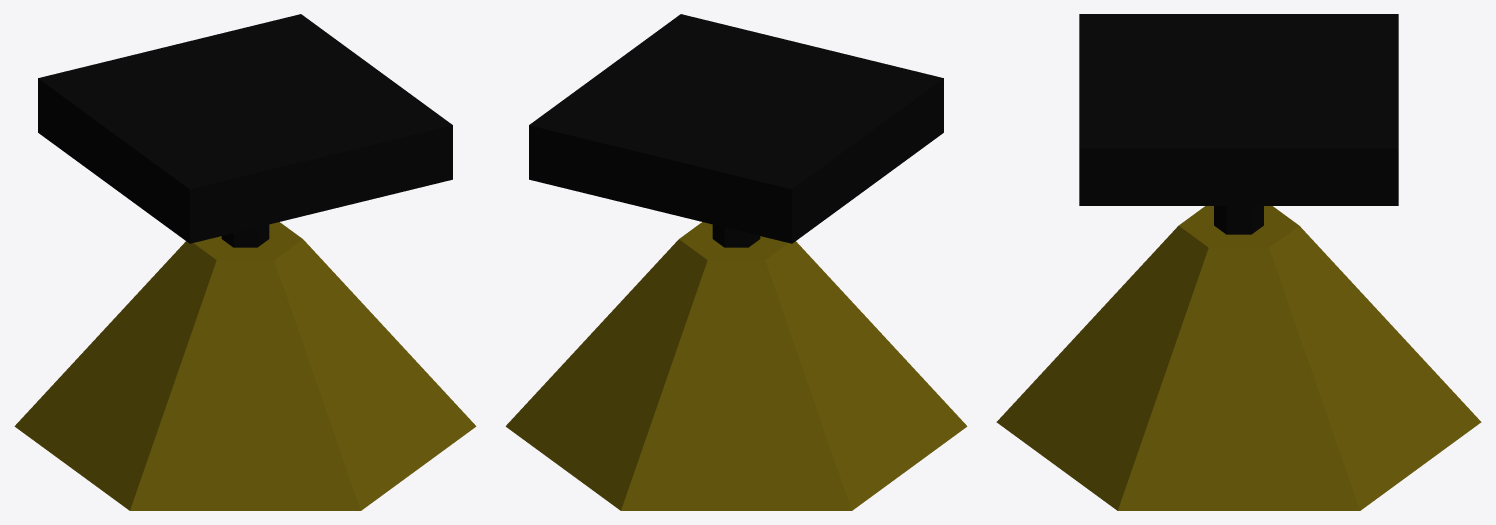
File: LampraTecho.fbx
The picture shows the model from 3 angles, left to right: view 1: azimuth 30°, elevation 25°; view 2: azimuth 150°, elevation 25°; view 3: azimuth 270°, elevation 25°; orthographic projection. The views are drawn at different scales.
Visible parts, largest first — view 1: PANTALLA, CONEXION AL TECHO, PALO Q CUELGA; view 2: PANTALLA, CONEXION AL TECHO, PALO Q CUELGA; view 3: PANTALLA, CONEXION AL TECHO, PALO Q CUELGA.
Boxes of the visible parts, bbox=[...] form: PANTALLA: bbox=[14, 222, 476, 510]; CONEXION AL TECHO: bbox=[38, 14, 452, 243]; PALO Q CUELGA: bbox=[221, 224, 269, 247]; PANTALLA: bbox=[505, 222, 967, 510]; CONEXION AL TECHO: bbox=[529, 14, 943, 243]; PALO Q CUELGA: bbox=[712, 224, 760, 247]; PANTALLA: bbox=[996, 206, 1481, 510]; CONEXION AL TECHO: bbox=[1079, 14, 1398, 205]; PALO Q CUELGA: bbox=[1214, 206, 1263, 234].
Size of the model in its own units: 2.63 by 2.36 by 3.04.
